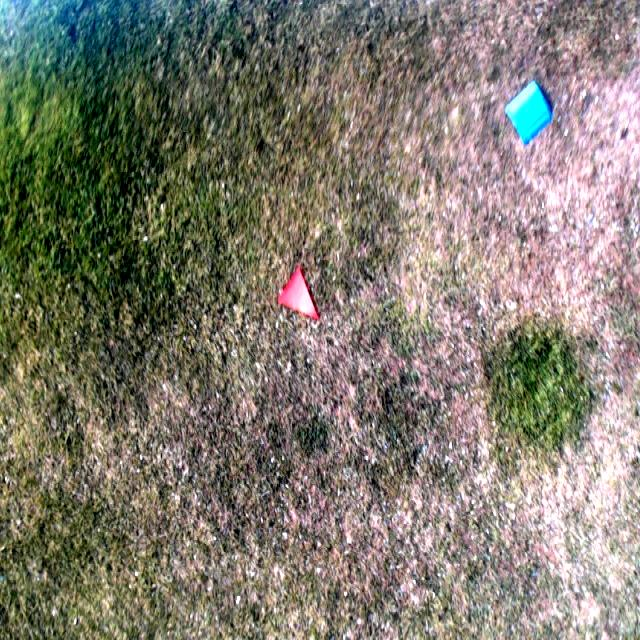blue_square: (503, 80, 552, 147)
red_triangle: (277, 266, 319, 322)
